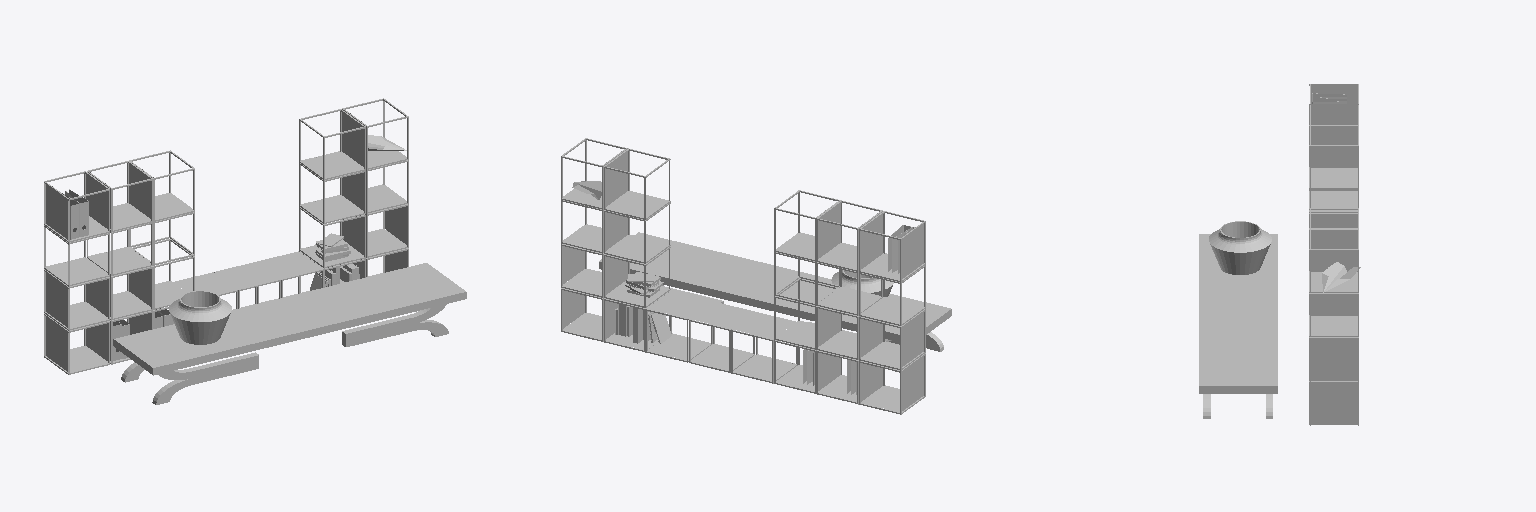
The picture shows the model from 3 angles: view 1: azimuth 30°, elevation 25°; view 2: azimuth 150°, elevation 25°; view 3: azimuth 270°, elevation 25°; orthographic projection.
Parts seen in each view (by area): view 1: n_moved, Cube.008_Cube.009, Cylinder, Cube.006_Cube.007, Cube.007_Cube.008, Cube.001_Cube.002, Cube_Cube.001; view 2: n_moved, Cube.008_Cube.009, Cylinder; view 3: n_moved, Cube.008_Cube.009, Cylinder.
Part boxes in pixels (bbox=[...]): n_moved: bbox=[44, 98, 408, 374]; Cube.008_Cube.009: bbox=[113, 263, 466, 375]; Cylinder: bbox=[169, 291, 231, 344]; Cube.006_Cube.007: bbox=[342, 304, 446, 340]; Cube.007_Cube.008: bbox=[158, 352, 258, 379]; Cube.001_Cube.002: bbox=[152, 362, 258, 404]; Cube_Cube.001: bbox=[342, 320, 448, 346]; n_moved: bbox=[561, 138, 925, 414]; Cube.008_Cube.009: bbox=[599, 232, 951, 341]; Cylinder: bbox=[831, 270, 893, 296]; n_moved: bbox=[1309, 84, 1360, 425]; Cube.008_Cube.009: bbox=[1199, 234, 1277, 393]; Cylinder: bbox=[1209, 221, 1271, 274].
Bounding box in the file's own units: 8.37 × 4.07 × 3.41.